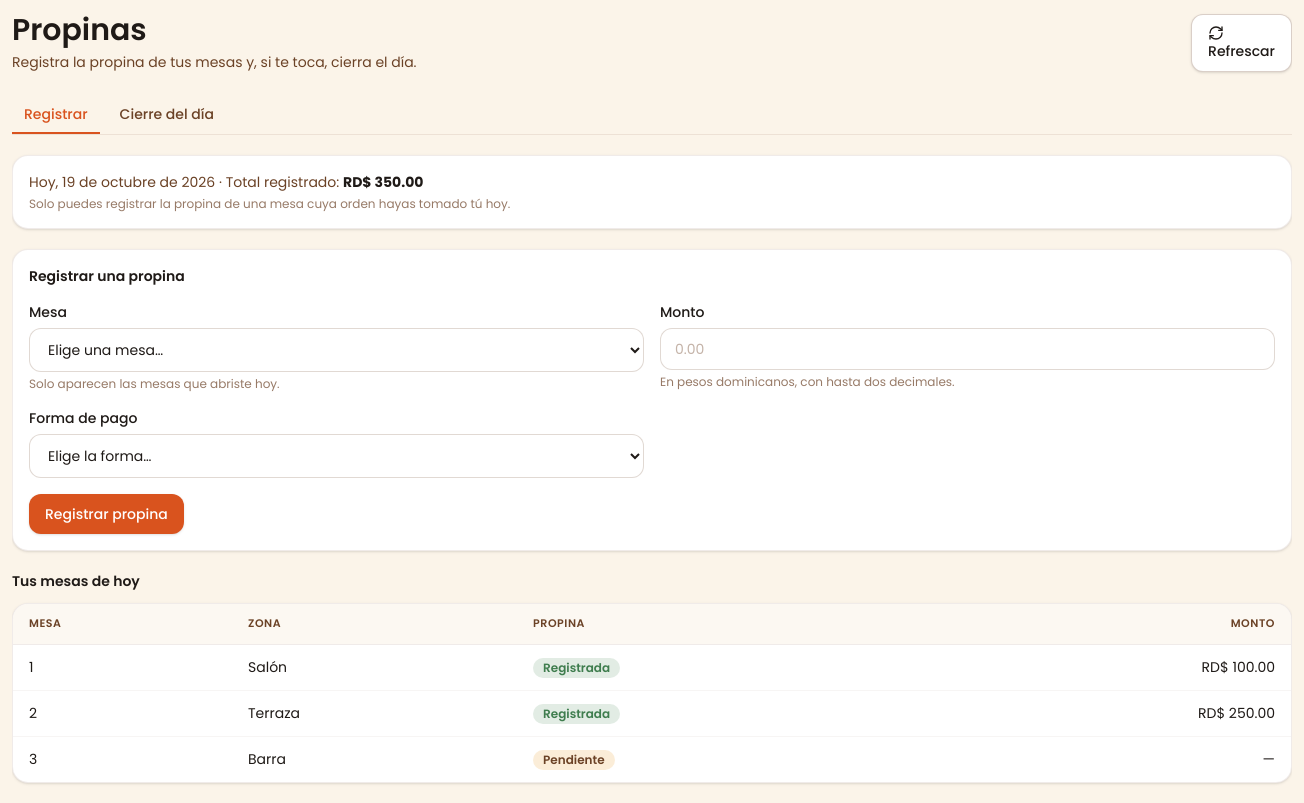
Test: Propinas — cierre del día › el gerente ve lo esperado por cada mesero
The image size is (1304, 803).
Click the tab "Cierre del día" at point(167, 115), box x1=108 y1=96 x2=226 y2=134
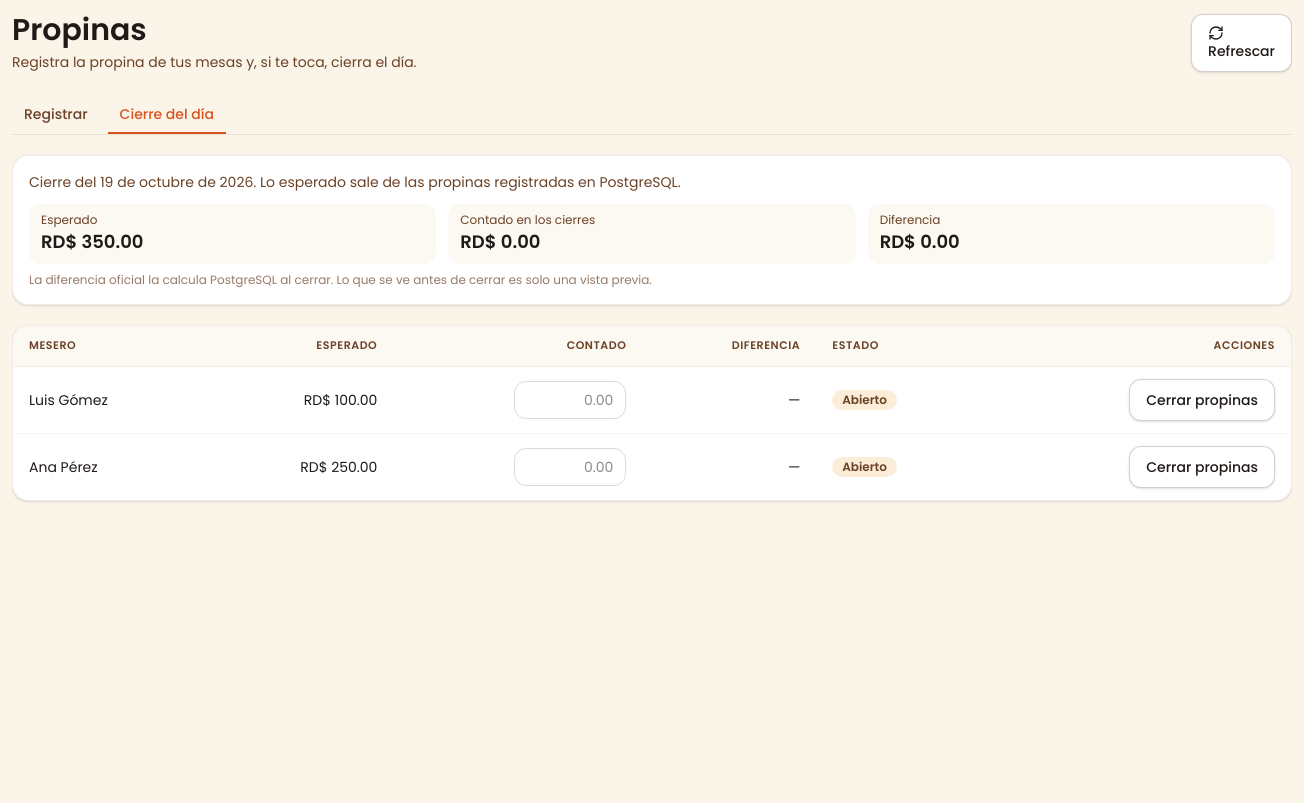
expect the text "Luis Gómez" is shown: met, box x1=13 y1=367 x2=205 y2=433
expect the text "Ana Pérez" is shown: met, box x1=13 y1=433 x2=205 y2=500
expect the field named "Contado de Luis Gómez" is shown: met, box x1=514 y1=381 x2=626 y2=419
